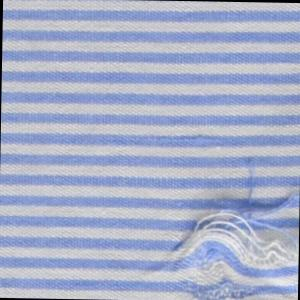Damage: (165, 153, 300, 300)
